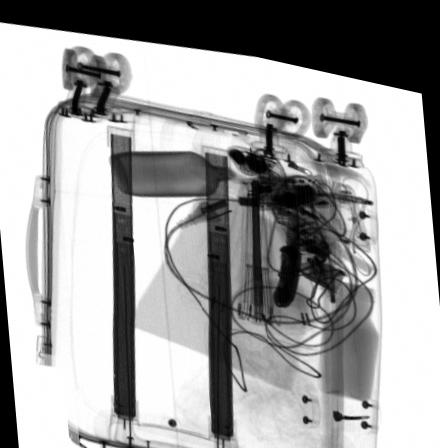Knife: (272, 188, 300, 296)
